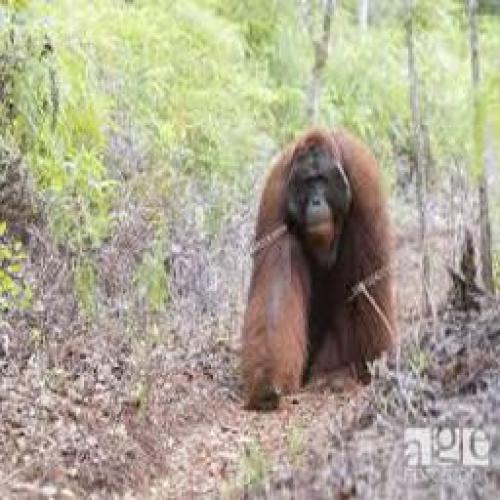orangutan-endangered: (242, 129, 398, 410)
